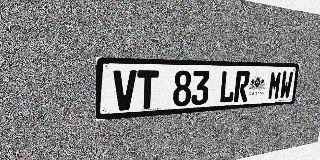3: (191, 70, 210, 105)
8: (172, 70, 193, 107)
L: (218, 71, 236, 104)
M: (267, 71, 282, 100)
R: (233, 71, 250, 102)
T: (136, 70, 159, 109)
V: (113, 70, 137, 111)
W: (279, 71, 293, 99)
